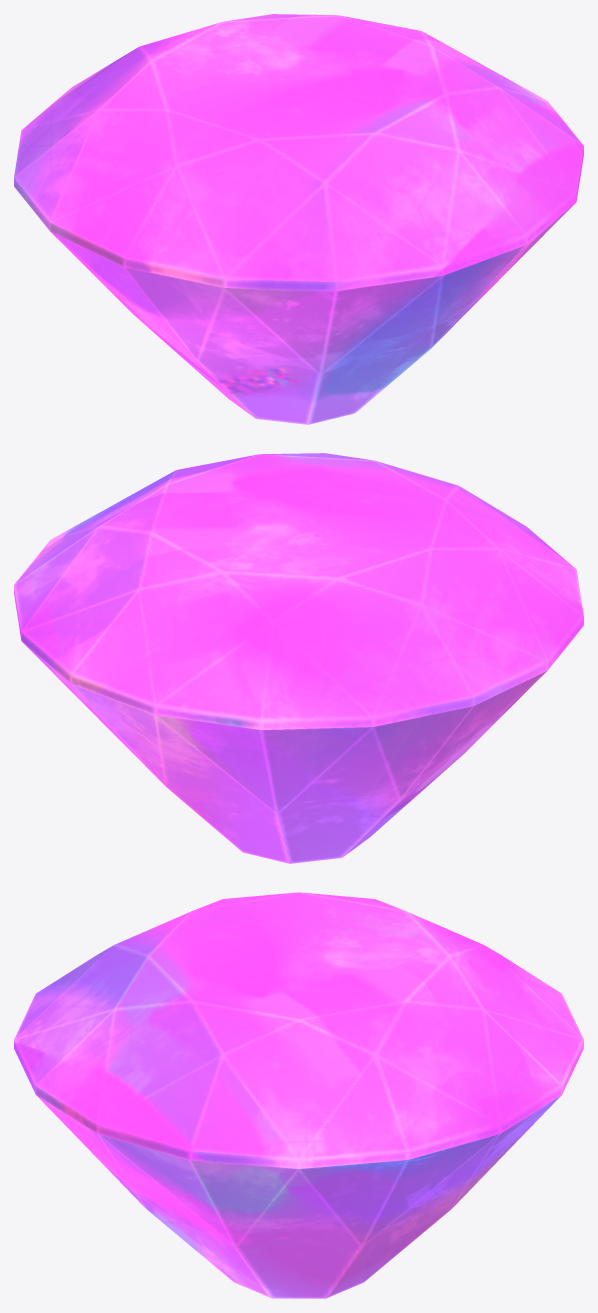
File: diamond.glb
3 renders of one model, top to bottom at view 1: azimuth 30°, elevation 25°; view 2: azimuth 150°, elevation 25°; view 3: azimuth 270°, elevation 25°, orthographic.
Parts seen in each view (by area): view 1: SM_Brilliant_Diamond; view 2: SM_Brilliant_Diamond; view 3: SM_Brilliant_Diamond.
Part boxes in pixels (x1,y1,x2,y2): SM_Brilliant_Diamond: (14,14,583,424); SM_Brilliant_Diamond: (14,453,583,863); SM_Brilliant_Diamond: (14,892,583,1298).
Size of the model in its own units: 2 by 1.22 by 2.
1 material, 1 textured.
